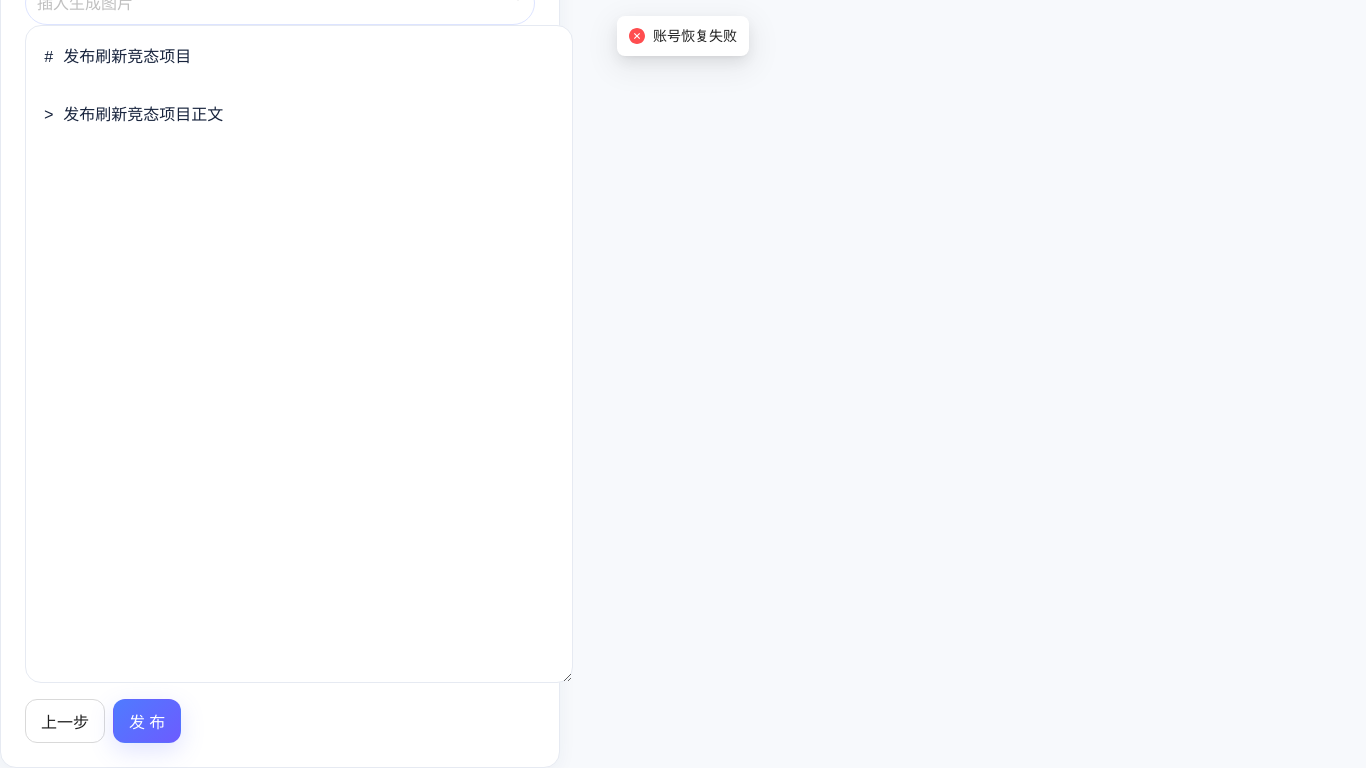
Creator publishing › does not let account refresh cancel a deferred publish response
(page scrolled)
Click the button "发 布" at x=147, y=721, box [113, 699, 181, 743]
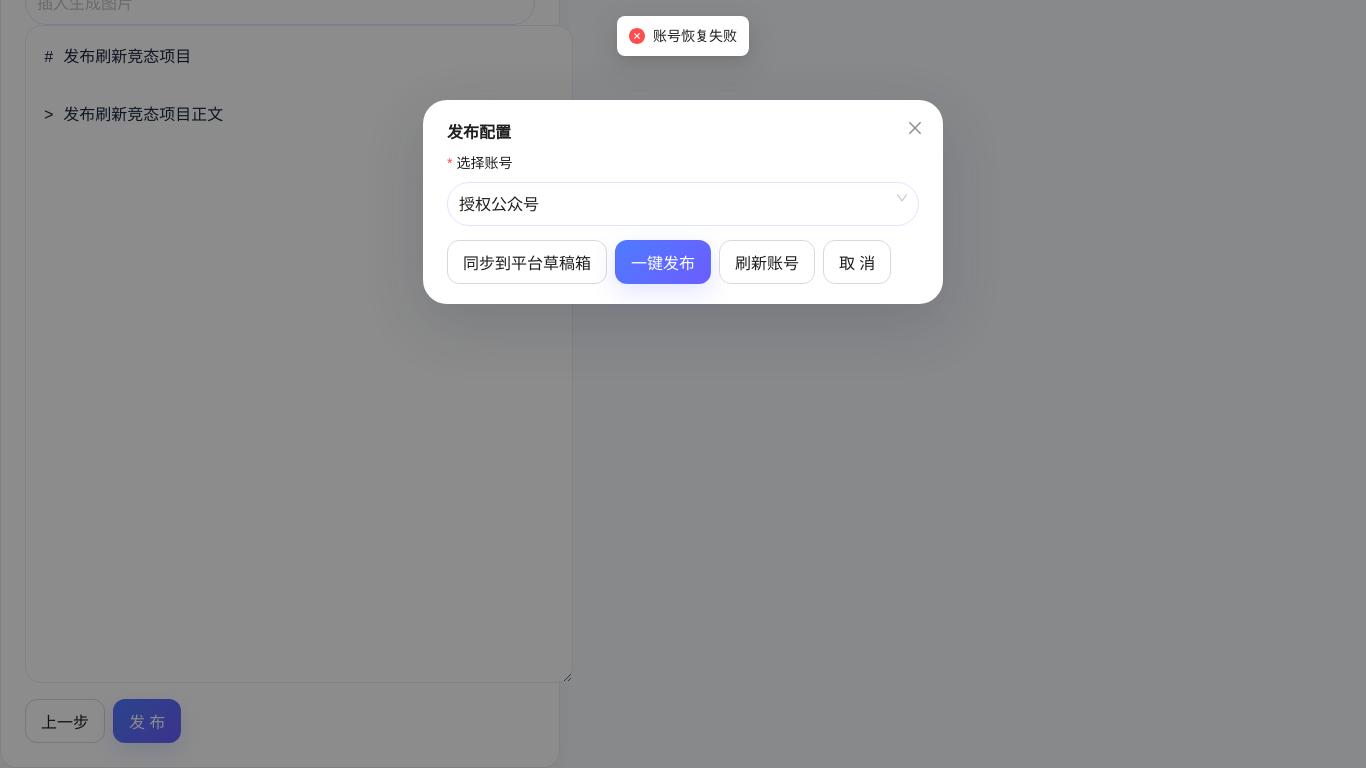
Click the button "一键发布" at x=663, y=262, box [615, 240, 711, 284]
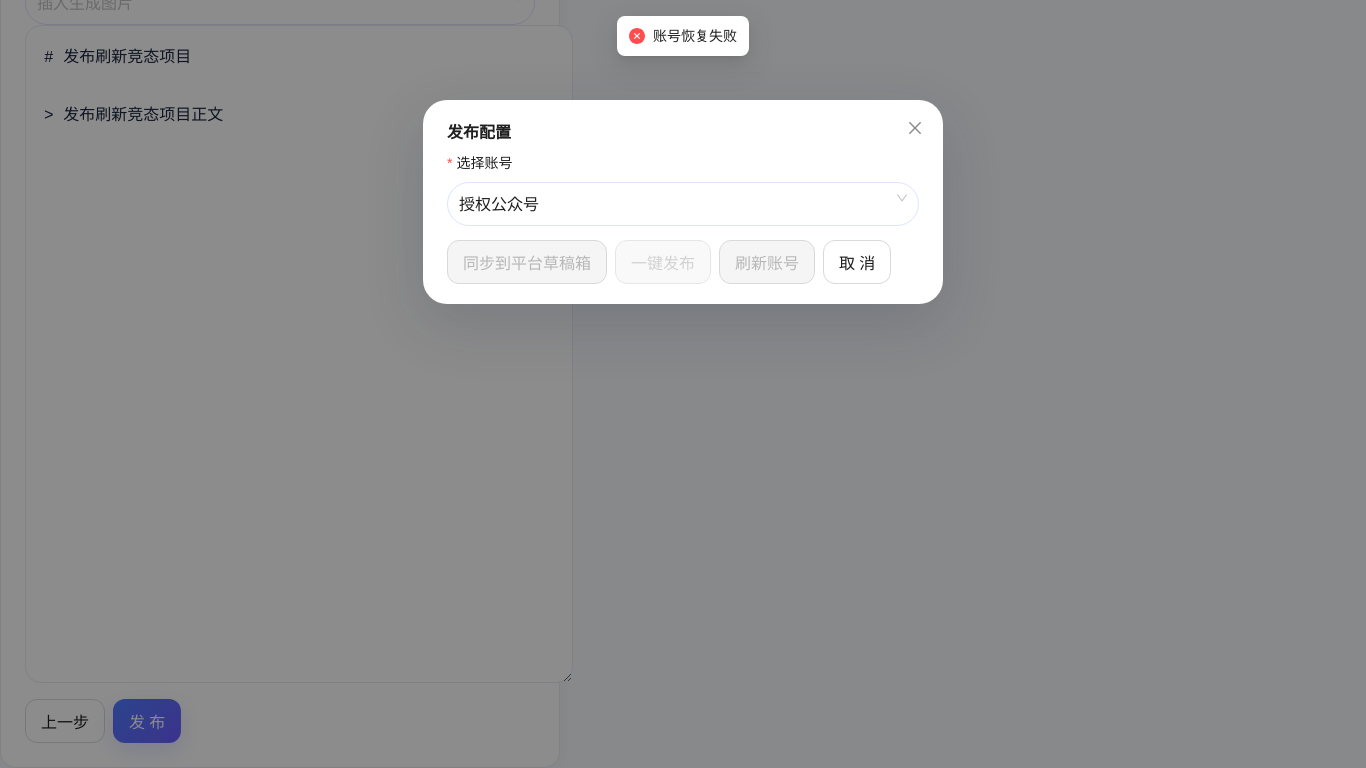
Expected: the button "刷新账号" is disabled
Click the button "刷新账号" at x=767, y=262, box [719, 240, 815, 284]
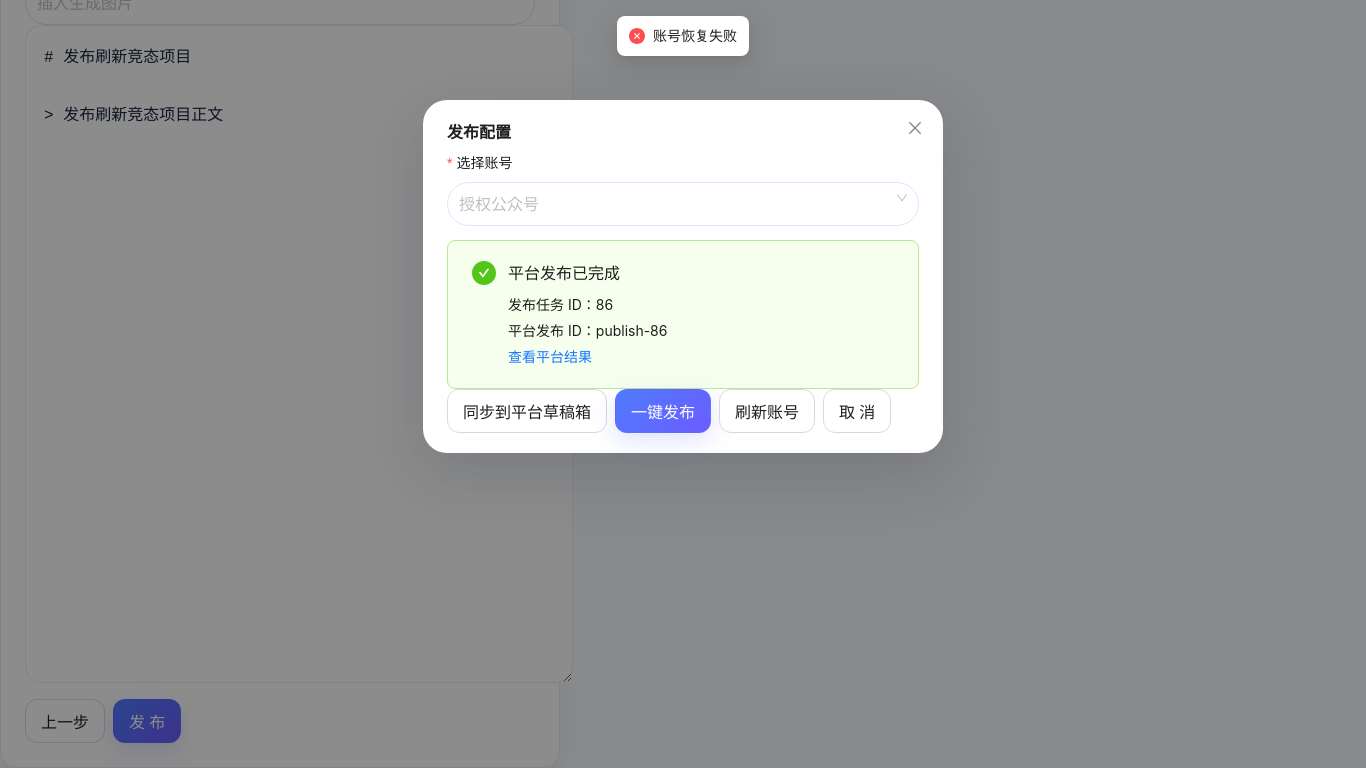
Expected: the text "平台发布 ID：publish-86" is shown, [508, 322, 668, 339]
